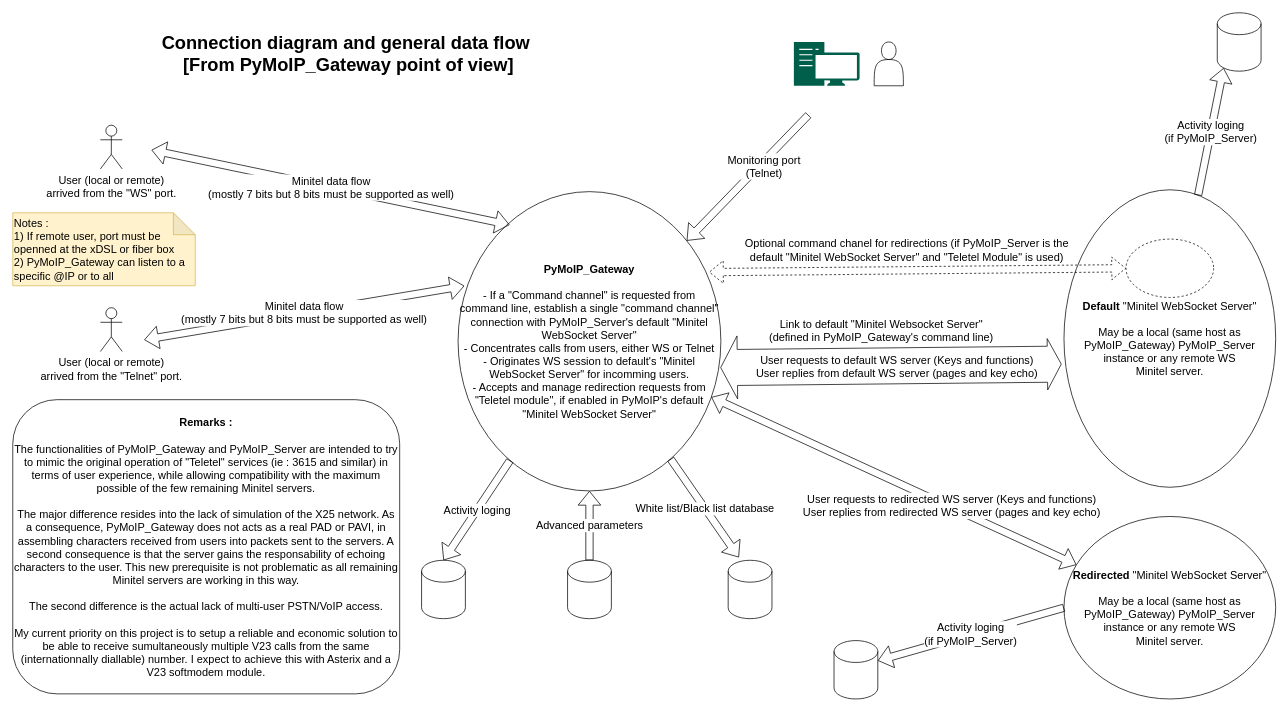
The diagram is 1288 pixels wide and 712 high, and some of its shapes have lost their labels. Each missing label, with the centre of its shape:
Local monitoring user: the point at 826,63
Teletel module: the point at 1169,267
